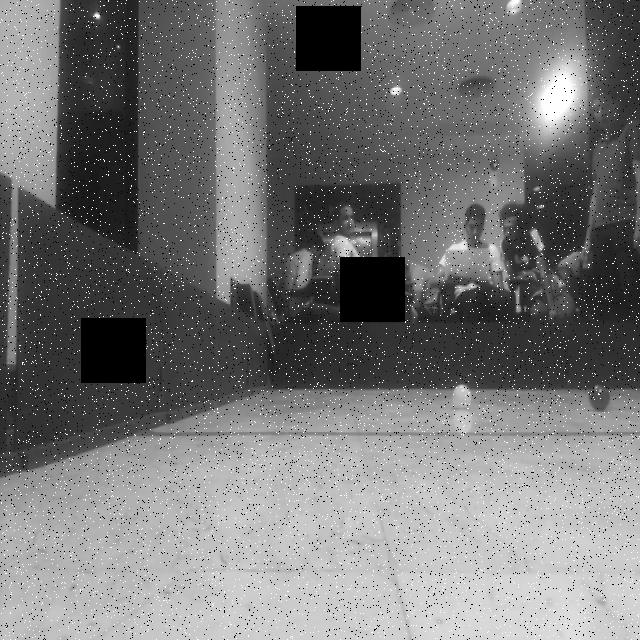ball: (588, 382, 614, 412), (451, 380, 474, 411)
